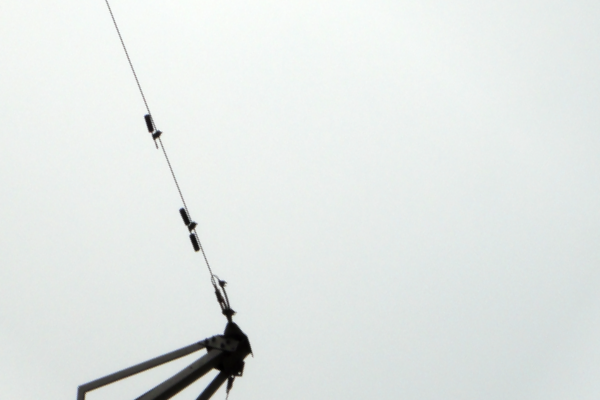damper: (176, 205, 201, 253)
damper_defect: (143, 111, 163, 151)
